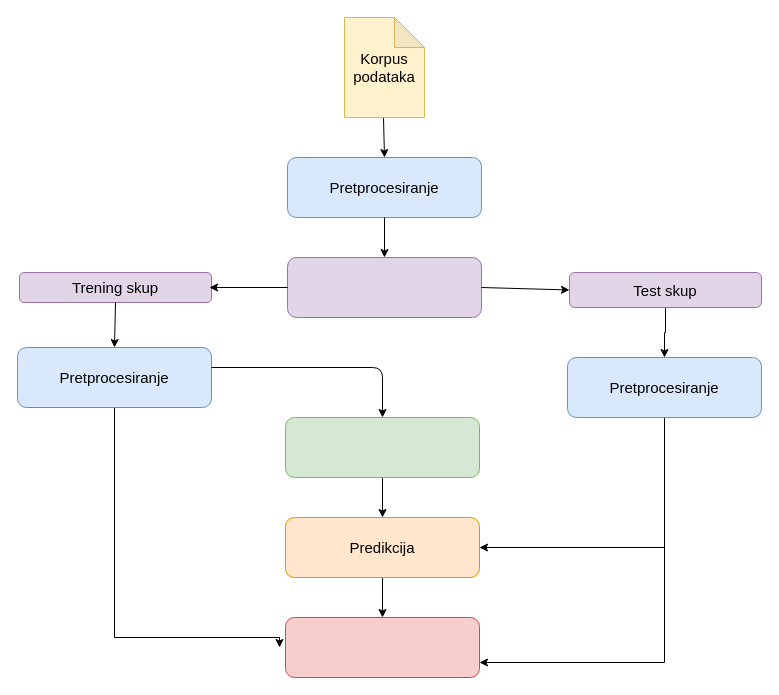
The diagram is 779 pixels wide and 695 high, and some of its shapes have lost their labels. Here are the shapes that lost their labels. From the top down, the box of each, then its label:
(286, 256, 482, 318): Uzimanje uzoraka
(284, 416, 480, 478): Učenje
(284, 616, 480, 678): Evaluacija
